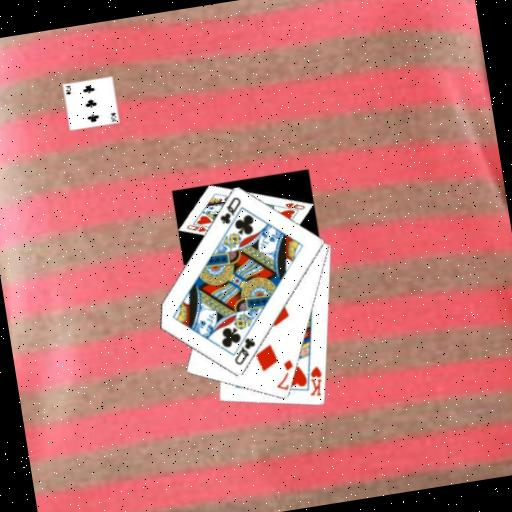7D: (269, 356, 298, 393)
KH: (302, 362, 326, 400)
QC: (213, 193, 246, 227), (227, 333, 259, 367)
